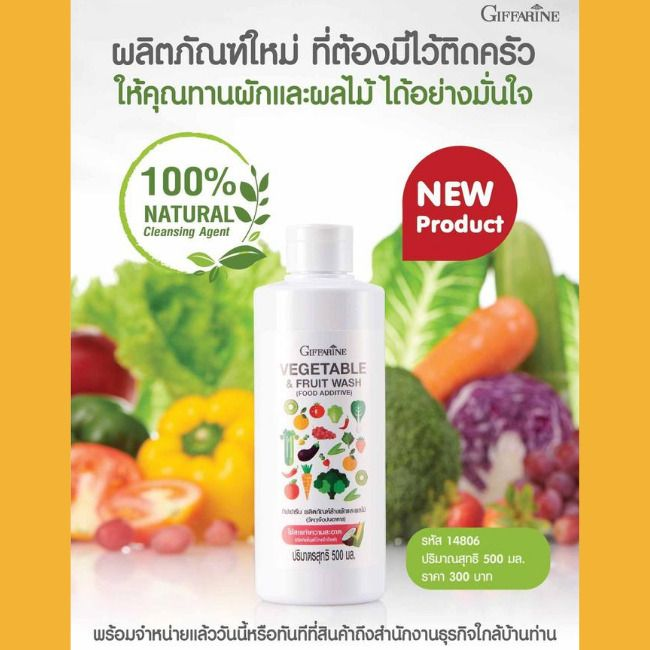Insecticide: (250, 221, 390, 610)
